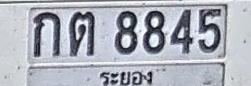4: (171, 8, 192, 53)
5: (198, 8, 222, 52)
8: (115, 10, 137, 54), (143, 10, 165, 53)
A01: (33, 11, 60, 57)
A21: (69, 11, 95, 56)
RYG: (95, 66, 158, 86)
